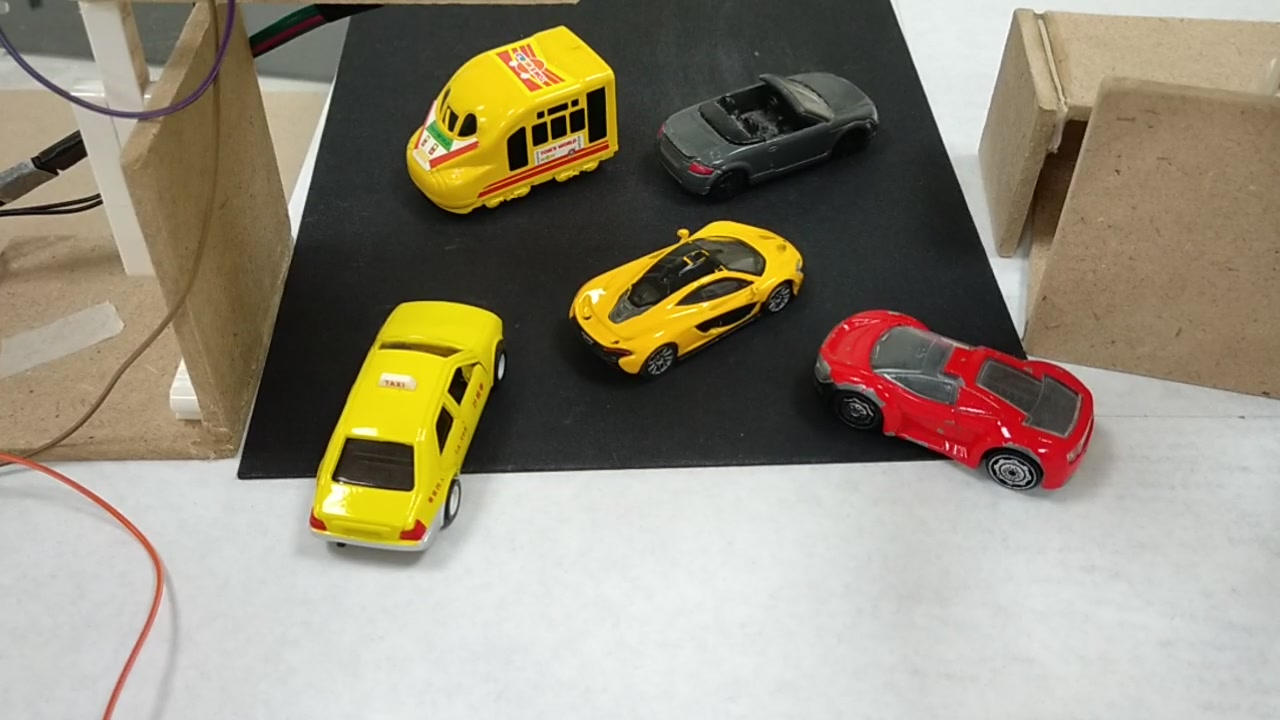car: (808, 309, 1098, 493), (300, 309, 510, 553), (571, 244, 801, 374), (663, 71, 878, 188)
